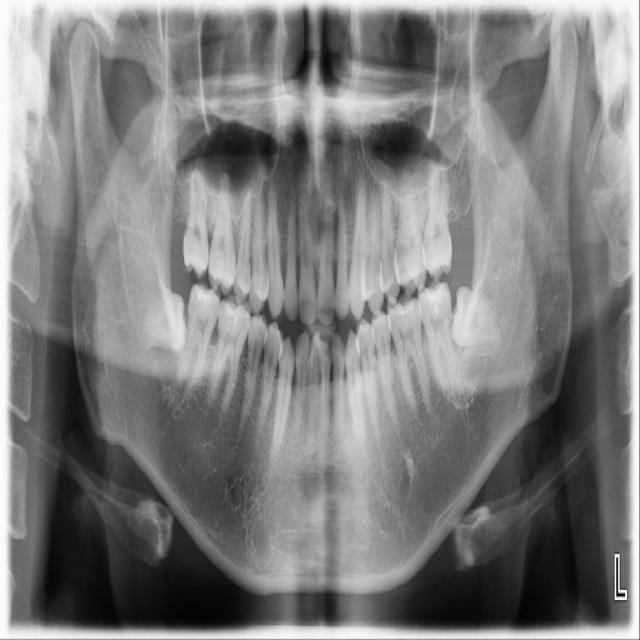73: (598, 534, 606, 554)
BioHorizons Implant: (422, 167, 452, 280)
Biomet 3i Implant: (445, 283, 514, 357)
Blue Sky Bio Implant: (416, 278, 459, 393)
Caries: (180, 165, 211, 280)
Implant: (177, 279, 224, 392)
Keystone Dental Implant: (143, 291, 188, 350)
